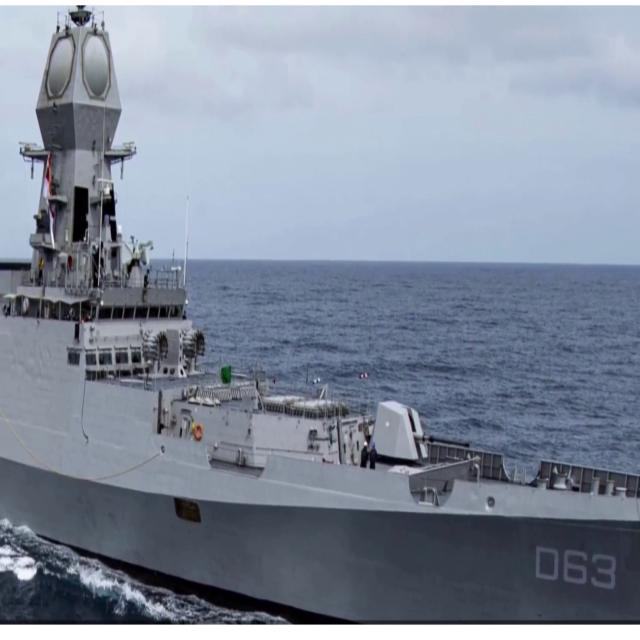OCR: (531, 542, 617, 598)
